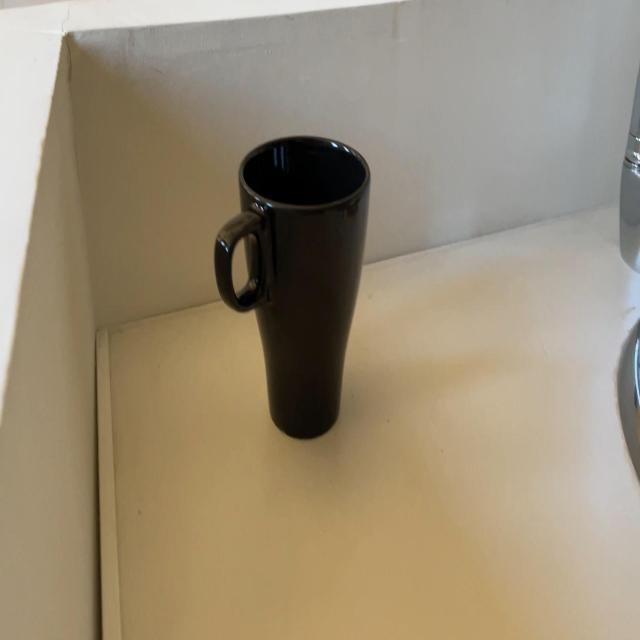cup: (214, 124, 380, 436)
